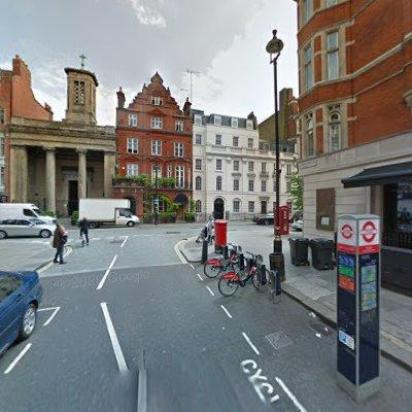moving-car: (0, 216, 54, 238), (254, 210, 273, 224)
moving-heavy-truck: (78, 197, 138, 227)
moving-light-truck: (0, 202, 56, 222)
stationary-bicycle-onstreet: (218, 252, 272, 296), (204, 243, 242, 279)
stationary-car-onstreet: (0, 264, 44, 392), (292, 214, 302, 232)
